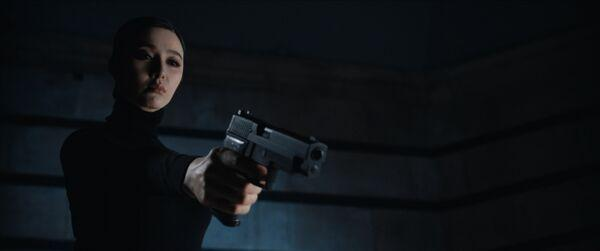Gun: (221, 111, 329, 188)
